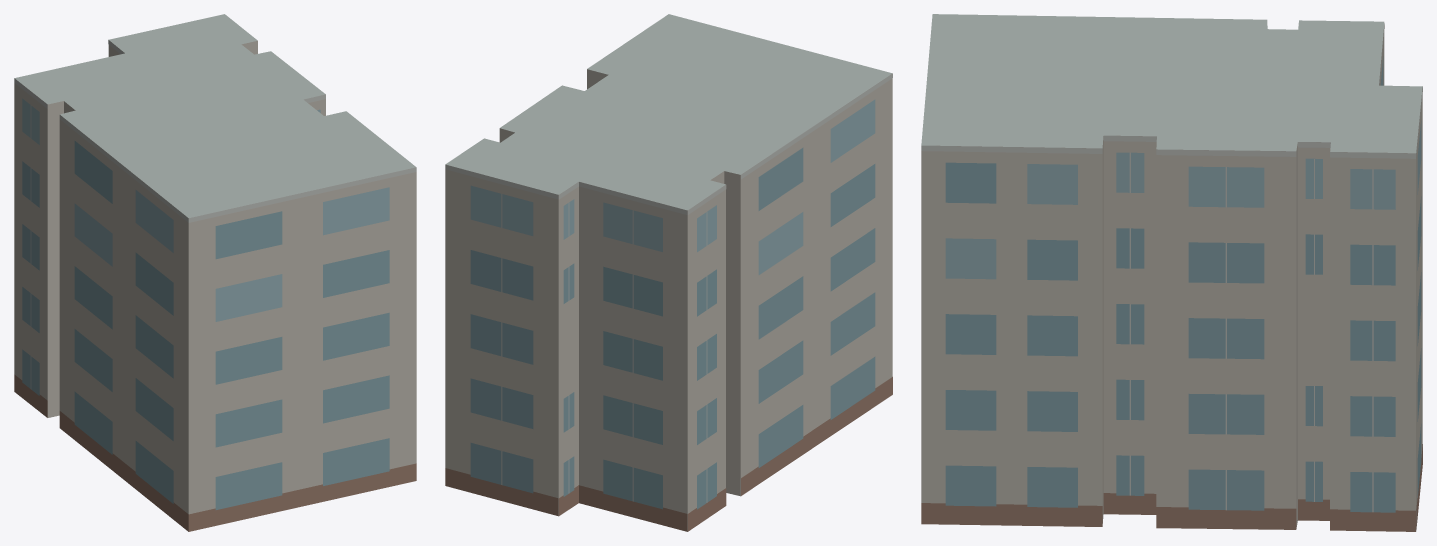
The model's file is survey-upis-32653968.glb.
3 renders of one model, left to right at view 1: azimuth 30°, elevation 25°; view 2: azimuth 150°, elevation 25°; view 3: azimuth 270°, elevation 25°, orthographic. The views are drawn at different scales.
Parts seen in each view (by area): view 1: survey-upis-32653968.tmp; view 2: survey-upis-32653968.tmp; view 3: survey-upis-32653968.tmp.
Part boxes in pixels (x1,y1,x2,y2): survey-upis-32653968.tmp: [14, 14, 416, 531]; survey-upis-32653968.tmp: [445, 14, 892, 531]; survey-upis-32653968.tmp: [921, 14, 1422, 531].
Size of the model in its own units: 12.92 by 16.37 by 19.66.
